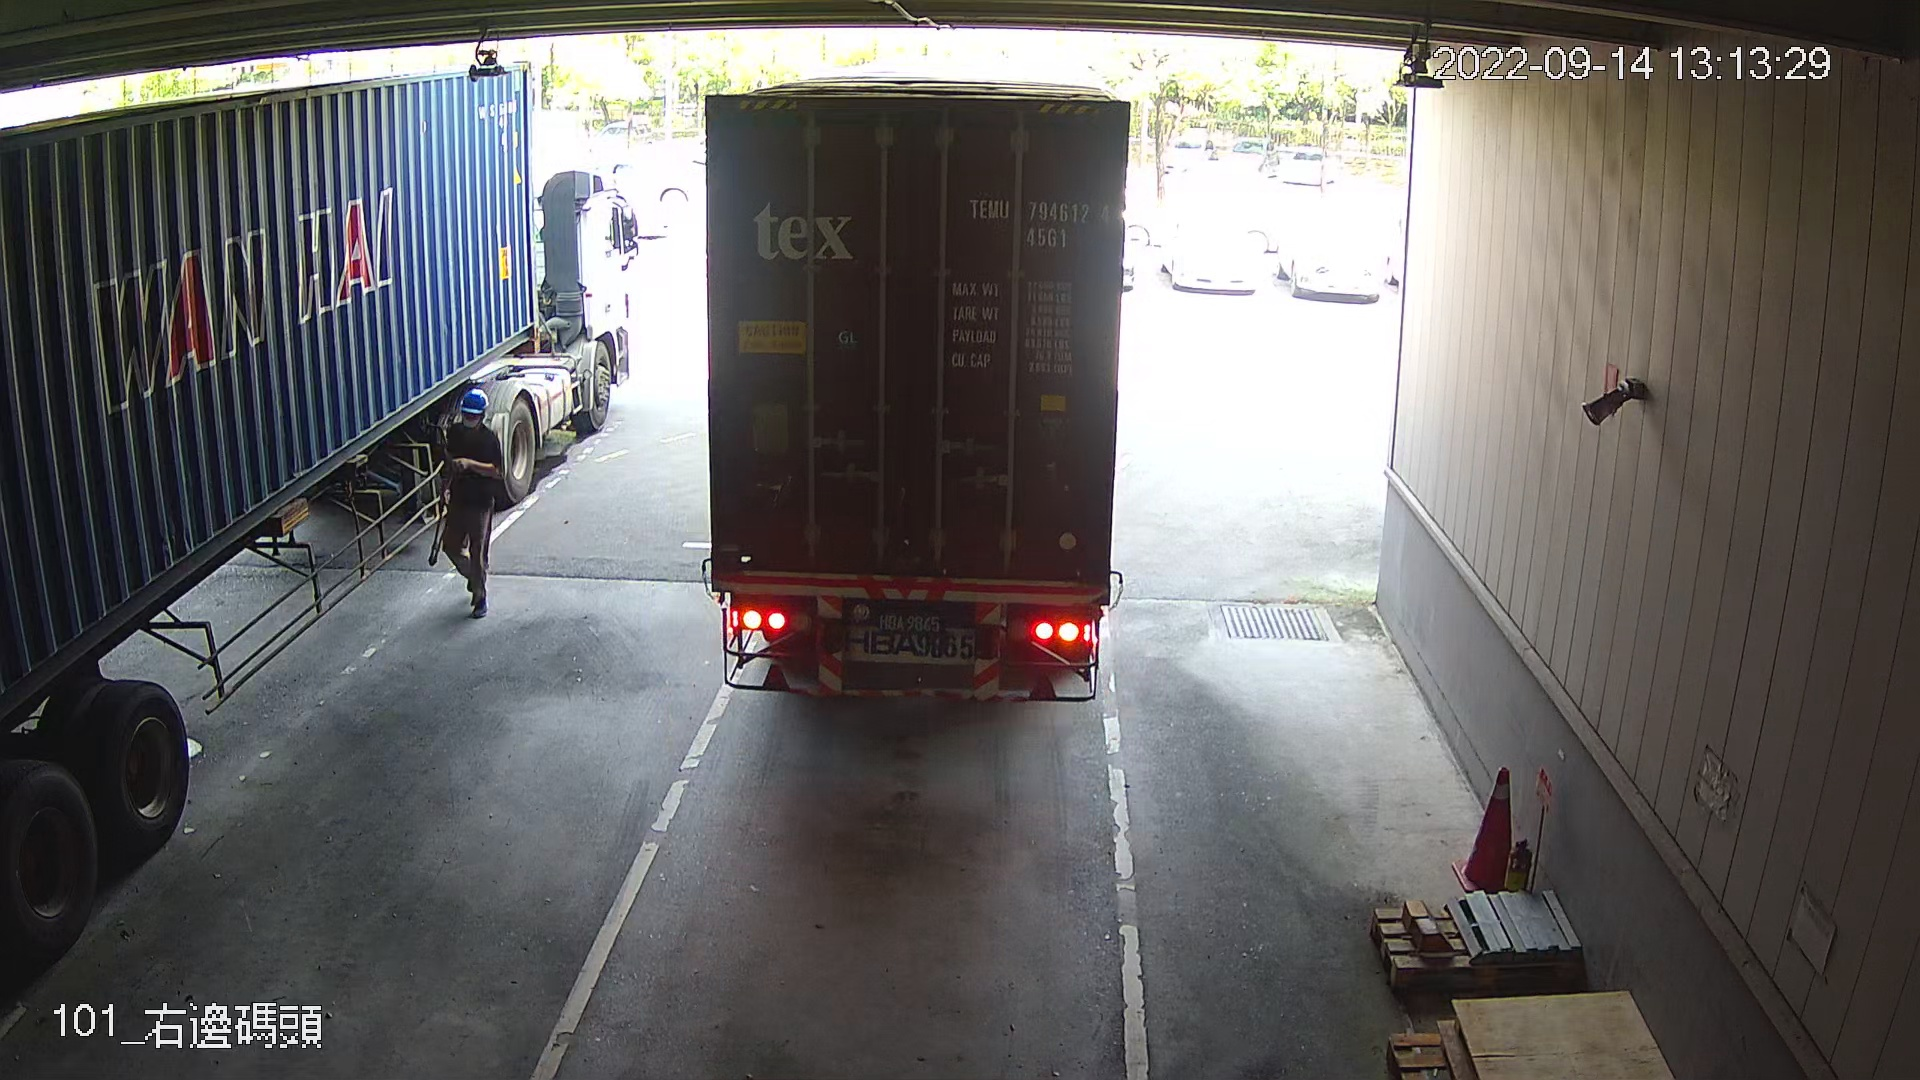container: (956, 185, 1116, 255)
